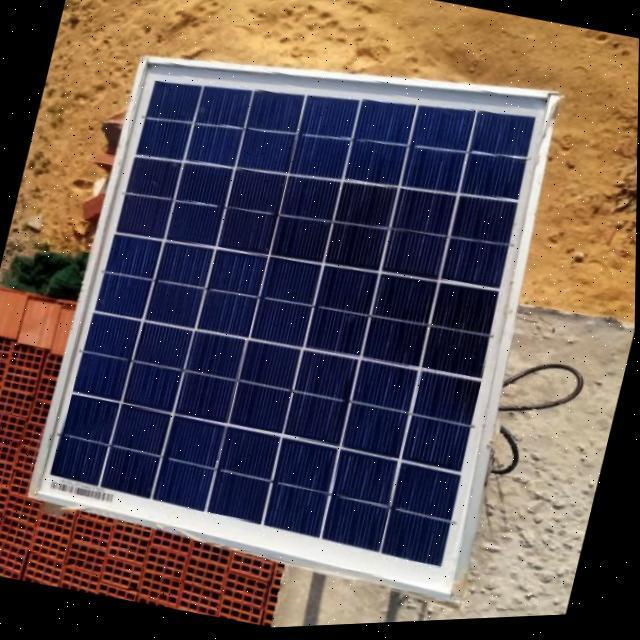Normal Solar Panel: (27, 3, 581, 620)
